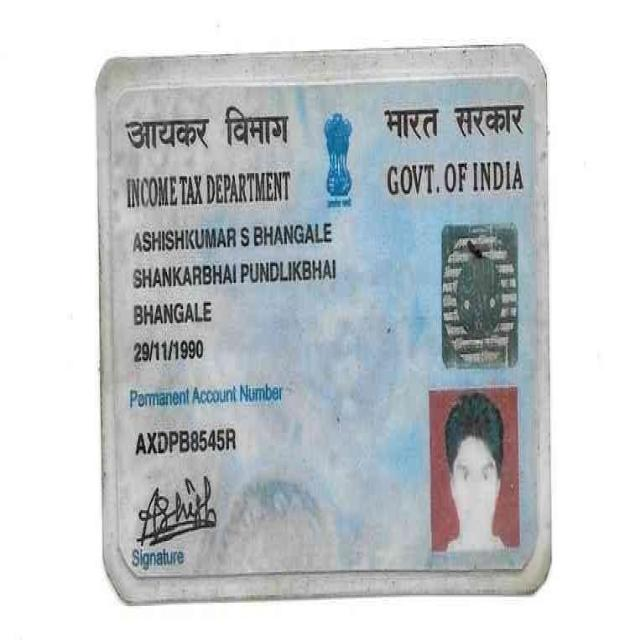pan_card: (112, 71, 531, 582)
